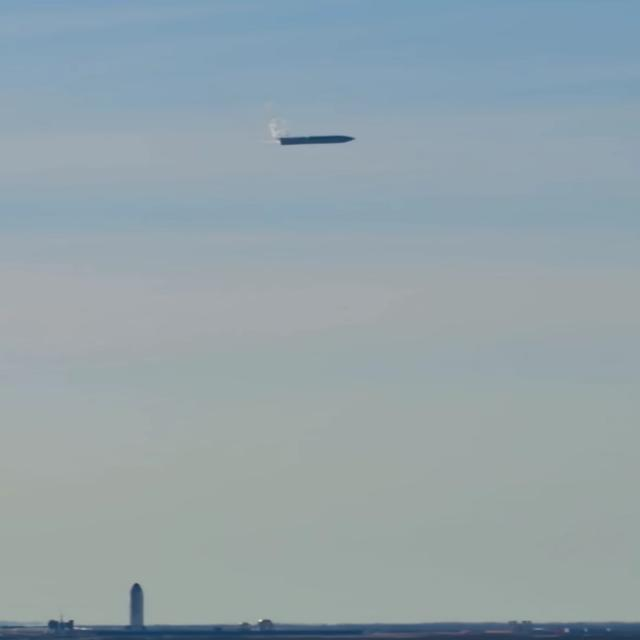missile: (277, 130, 354, 149)
